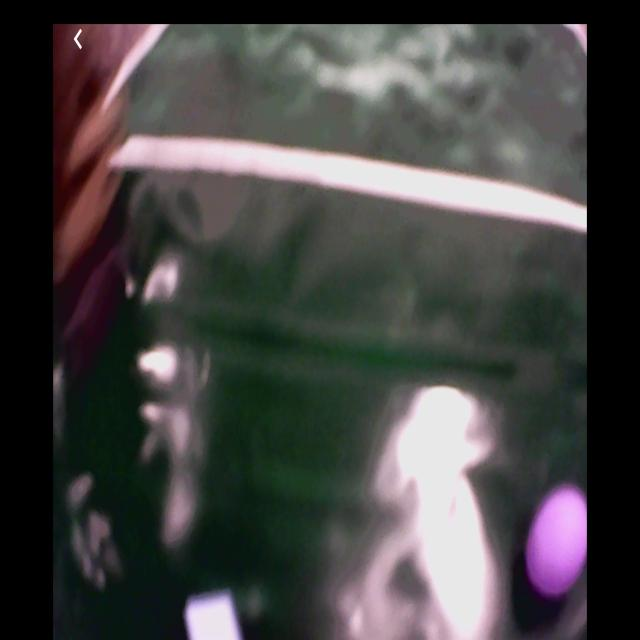ball: (523, 486, 587, 594)
